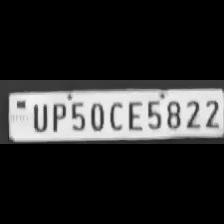0: (87, 99, 105, 131)
2: (182, 97, 202, 129), (200, 97, 220, 129)
5: (144, 97, 162, 130), (68, 99, 86, 131)
8: (162, 97, 182, 129)
C: (106, 98, 122, 132)
E: (124, 99, 142, 131)
P: (48, 100, 66, 132)
U: (28, 100, 48, 132)
